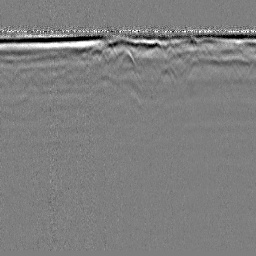cavity: (118, 47, 138, 70)
